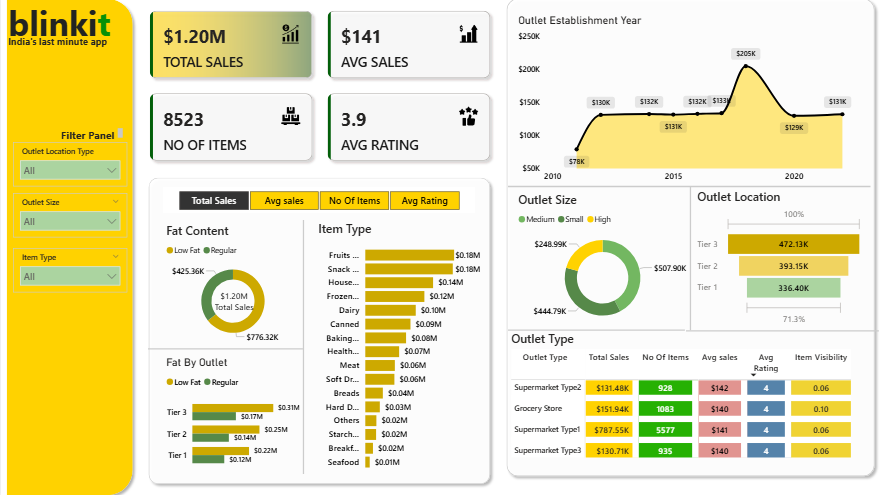

Layout of this report page (visuals, bound fields, positions):
{"tool":"powerbi","page":{"name":"Page 1","canvas":[1400,800],"ordinal":0},"visuals":[{"type":"shape","box":[0,0,216.3,800],"z":0},{"type":"textbox","box":[6.1,4,226.5,89.8],"z":1000},{"type":"textbox","box":[428.6,146.9,226.5,91.8],"z":2000},{"type":"textbox","box":[6.1,62,191.8,44.9],"z":3000},{"type":"cardVisual","fields":{"Data":["BlinkIT Grocery Data.Total Sales","BlinkIT Grocery Data.Avg sales","BlinkIT Grocery Data.No Of Items","BlinkIT Grocery Data.Avg Rating"]},"box":[216.7,11.1,570.4,270.4],"z":4000},{"type":"shape","box":[224.1,281.5,555.6,500],"z":5000},{"type":"slicer","fields":{"Values":["Metrics.Metrics"]},"box":[255.6,305.6,490.7,40.7],"z":6000},{"type":"donutChart","title":"Fat Content","fields":{"Y":["BlinkIT Grocery Data.Total Sales"],"Category":["BlinkIT Grocery Data.Item Fat Content"]},"box":[255.6,361.1,220.4,196.3],"z":7000},{"type":"cardVisual","fields":{"Data":["BlinkIT Grocery Data.Total Sales"]},"box":[311.1,437,111.1,94.4],"z":8000},{"type":"clusteredBarChart","title":" Fat By Outlet","fields":{"Y":["BlinkIT Grocery Data.Total Sales"],"Category":["BlinkIT Grocery Data.Outlet Location Type"],"Series":["BlinkIT Grocery Data.Item Fat Content"]},"box":[255.6,572.2,220.4,188.9],"z":9000},{"type":"shape","box":[231.5,531.5,244.4,59.3],"z":10000},{"type":"shape","box":[450,357.4,51.9,400],"z":11000},{"type":"barChart","title":" Item Type","fields":{"Y":["BlinkIT Grocery Data.Total Sales"],"Category":["BlinkIT Grocery Data.Item Type"]},"box":[494.4,357.4,264.8,403.7],"z":12000},{"type":"shape","box":[787.1,0,597.1,770],"z":13000},{"type":"lineChart","title":" Outlet Establishment Year","fields":{"Y":["BlinkIT Grocery Data.Total Sales"],"Category":["BlinkIT Grocery Data.Outlet Establishment Year"]},"box":[808.9,33.3,535.6,273.3],"z":14000},{"type":"shape","box":[798.6,274.3,571.4,61.4],"z":15000},{"type":"donutChart","title":"Outlet Size","fields":{"Y":["BlinkIT Grocery Data.Total Sales"],"Category":["BlinkIT Grocery Data.Outlet Size"]},"box":[809.3,311.1,275.9,220.4],"z":16000},{"type":"shape","box":[798.6,501.4,278.6,60],"z":17000},{"type":"shape","box":[1059.3,305.6,51.9,225.9],"z":18000},{"type":"funnel","title":" Outlet Location ","fields":{"Category":["BlinkIT Grocery Data.Outlet Location Type"],"Y":["Sum(BlinkIT Grocery Data.Sales)"]},"box":[1090.7,307.4,270.4,220.4],"z":19000},{"type":"shape","box":[1078,501.9,303.7,59.3],"z":20000},{"type":"pivotTable","title":"Outlet Type","fields":{"Rows":["BlinkIT Grocery Data.Outlet Type"],"Values":["BlinkIT Grocery Data.Total Sales","BlinkIT Grocery Data.No Of Items","BlinkIT Grocery Data.Avg sales","BlinkIT Grocery Data.Avg Rating","Avg(BlinkIT Grocery Data.Item Visibility)"]},"box":[798.6,531.4,575.7,225.7],"z":21000},{"type":"slicer","fields":{"Values":["BlinkIT Grocery Data.Outlet Location Type"]},"box":[18.6,234.3,180,70],"z":22000},{"type":"slicer","fields":{"Values":["BlinkIT Grocery Data.Item Type"]},"box":[18.6,401.4,180,70],"z":23000},{"type":"slicer","fields":{"Values":["BlinkIT Grocery Data.Outlet Size"]},"box":[18.6,315.7,180,70],"z":24000},{"type":"textbox","box":[90,207.1,107.1,27.1],"z":25000}]}

Visuals, with their boxes in screenshot pixels (x1, y1, x2, y2), scaled from the page's 1400x800 canvas onto the 880x495 screenshot:
shape: x1=0 y1=0 x2=136 y2=494
textbox: x1=4 y1=2 x2=146 y2=58
textbox: x1=269 y1=91 x2=412 y2=148
textbox: x1=4 y1=38 x2=124 y2=66
cardVisual - BlinkIT Grocery Data.Total Sales x BlinkIT Grocery Data.Avg sales: x1=136 y1=7 x2=495 y2=174
shape: x1=141 y1=174 x2=490 y2=484
slicer - Metrics.Metrics: x1=161 y1=189 x2=469 y2=214
"Fat Content" donutChart: x1=161 y1=223 x2=299 y2=345
cardVisual - BlinkIT Grocery Data.Total Sales: x1=196 y1=270 x2=265 y2=329
" Fat By Outlet" clusteredBarChart: x1=161 y1=354 x2=299 y2=471
shape: x1=146 y1=329 x2=299 y2=366
shape: x1=283 y1=221 x2=315 y2=469
" Item Type" barChart: x1=311 y1=221 x2=477 y2=471
shape: x1=495 y1=0 x2=870 y2=476
" Outlet Establishment Year" lineChart: x1=508 y1=21 x2=845 y2=190
shape: x1=502 y1=170 x2=861 y2=208
"Outlet Size" donutChart: x1=509 y1=192 x2=682 y2=329
shape: x1=502 y1=310 x2=677 y2=347
shape: x1=666 y1=189 x2=698 y2=329
" Outlet Location " funnel: x1=686 y1=190 x2=856 y2=327
shape: x1=678 y1=311 x2=868 y2=347
"Outlet Type" pivotTable: x1=502 y1=329 x2=864 y2=468
slicer - BlinkIT Grocery Data.Outlet Location Type: x1=12 y1=145 x2=125 y2=188
slicer - BlinkIT Grocery Data.Item Type: x1=12 y1=248 x2=125 y2=292
slicer - BlinkIT Grocery Data.Outlet Size: x1=12 y1=195 x2=125 y2=239
textbox: x1=57 y1=128 x2=124 y2=145
